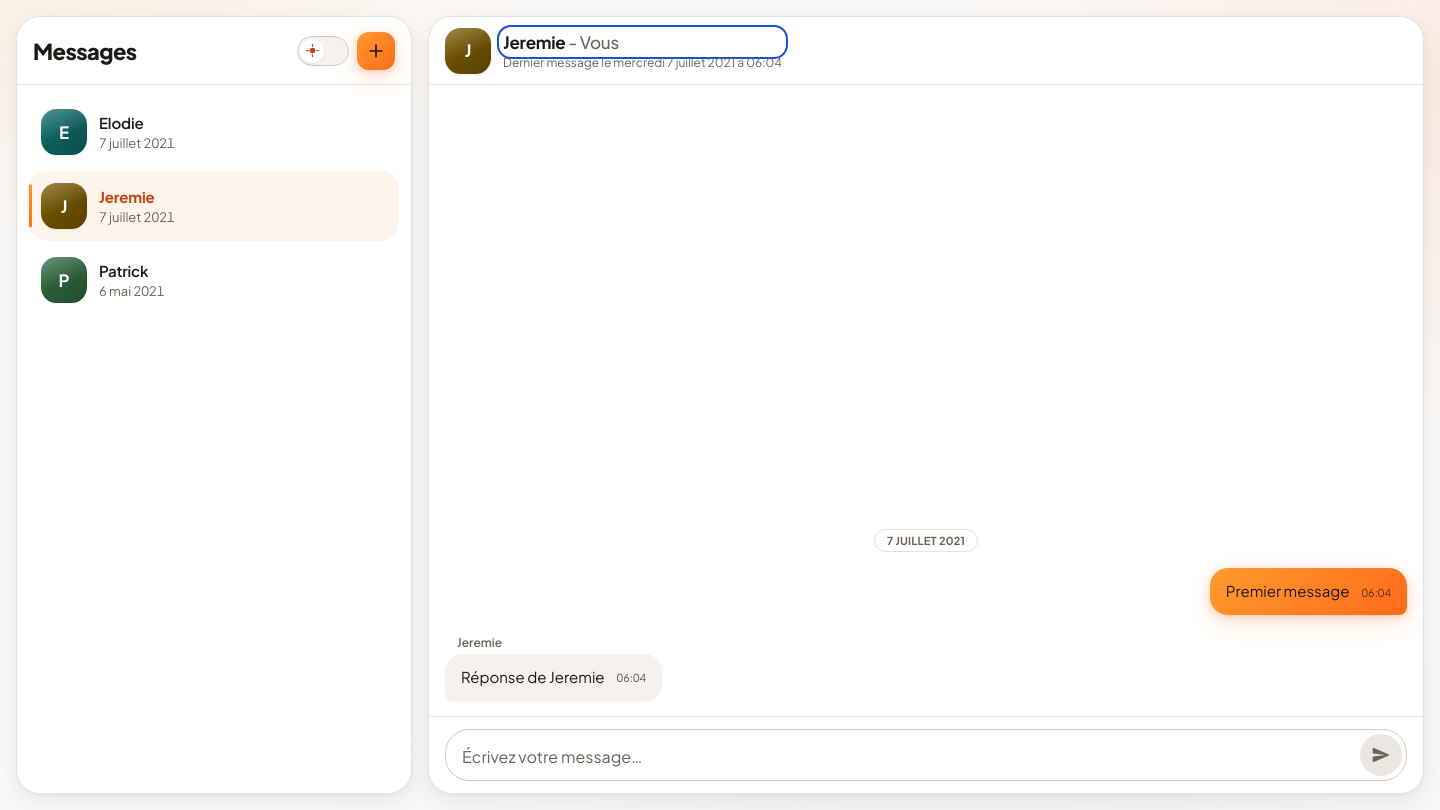
Scenario: failure handling › keeps a failed message on screen and offers to send it again
Expected: the text "Premier message" is shown, [1226, 580, 1350, 602]
Type "Message perdu" into the text box named "Écrire un message". click: (907, 757)
box: [462, 738, 1352, 776]
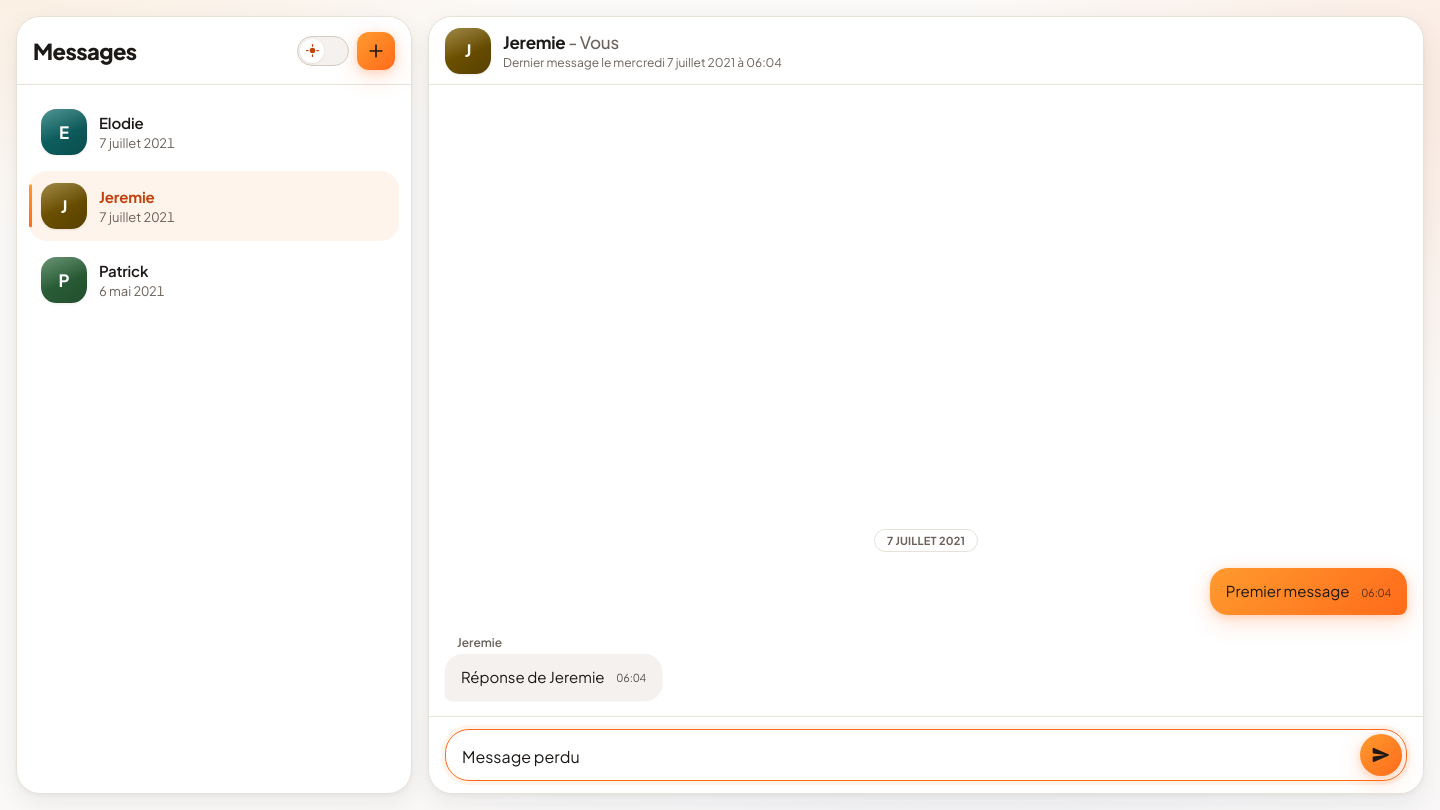
Press Enter
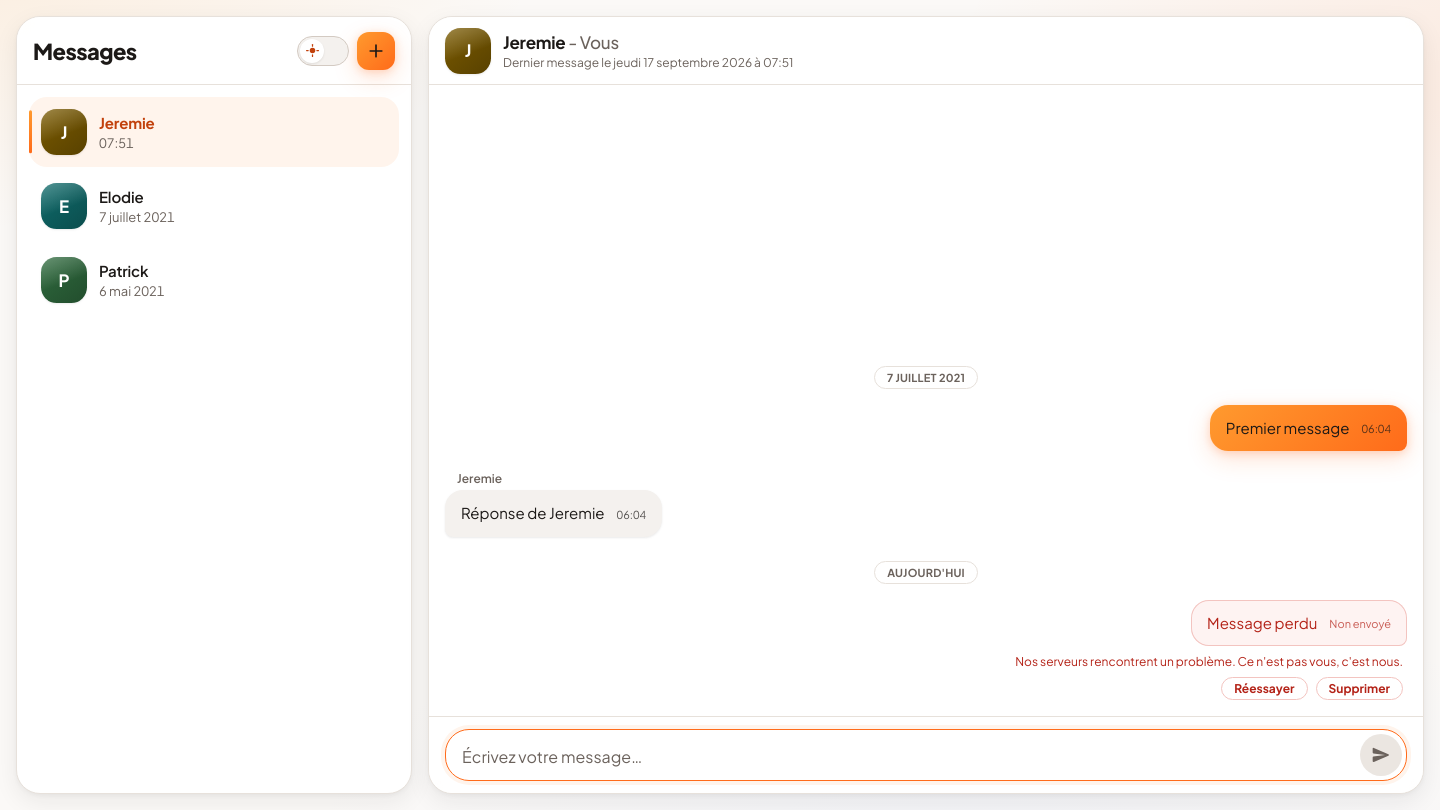
Now the text "Message perdu" is shown, box [1207, 612, 1317, 634]
Now the text "Non envoyé" is shown, box [1329, 615, 1391, 634]
Click the button "Réessayer". click: (1264, 688)
box: [1221, 677, 1308, 700]
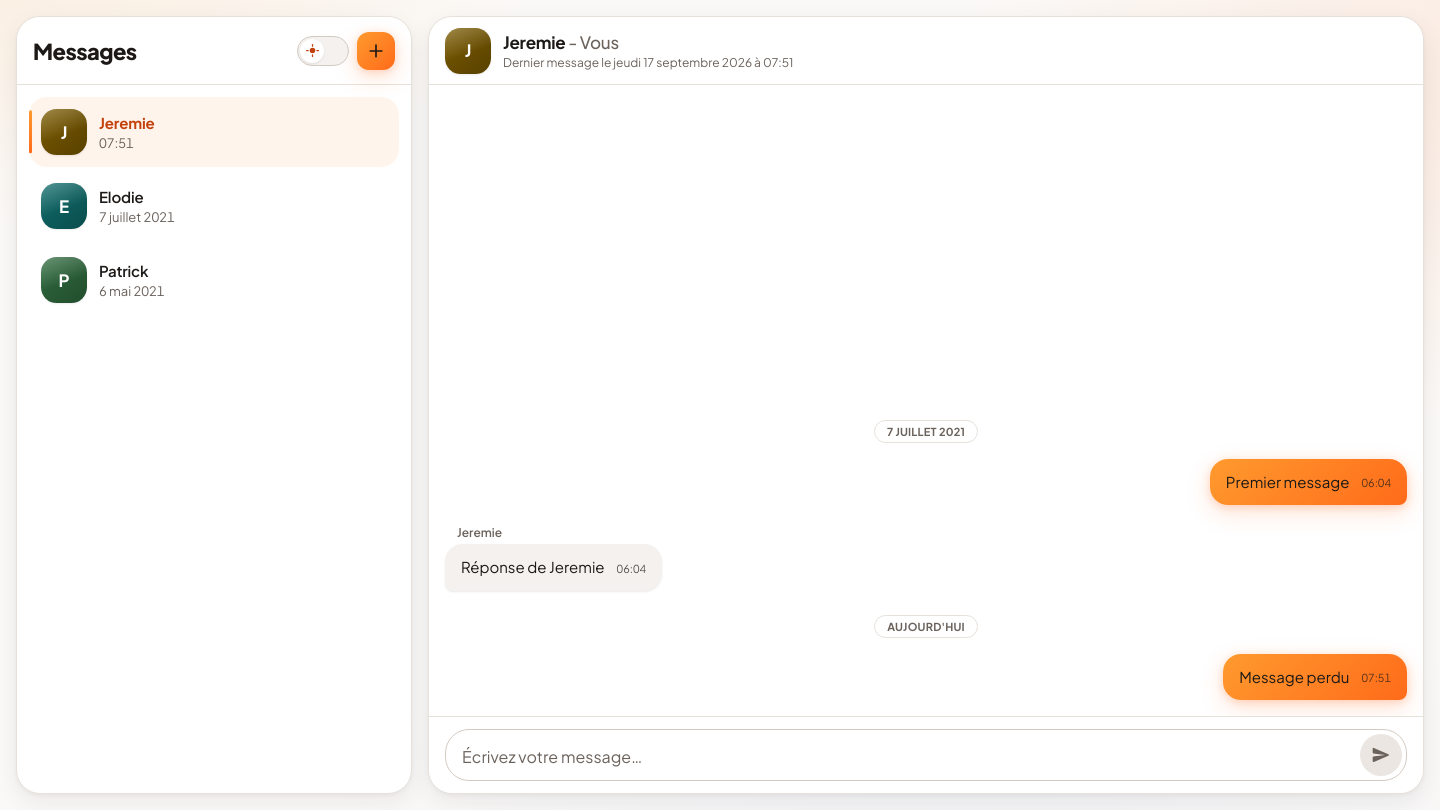
Now the text "Non envoyé" is gone
